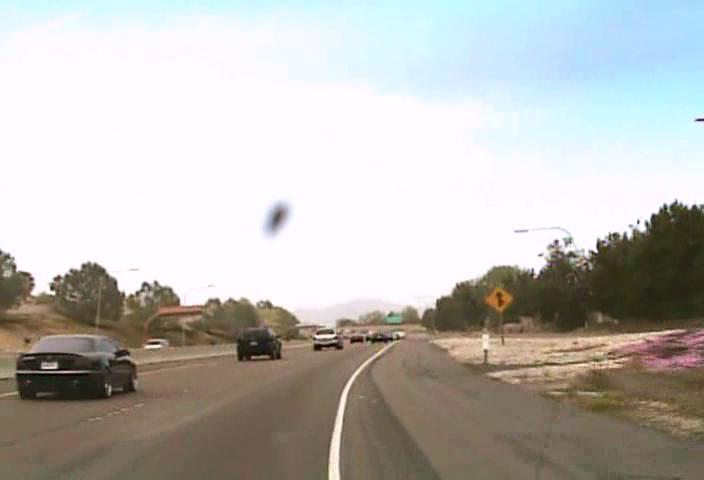merge: (482, 283, 514, 315)
